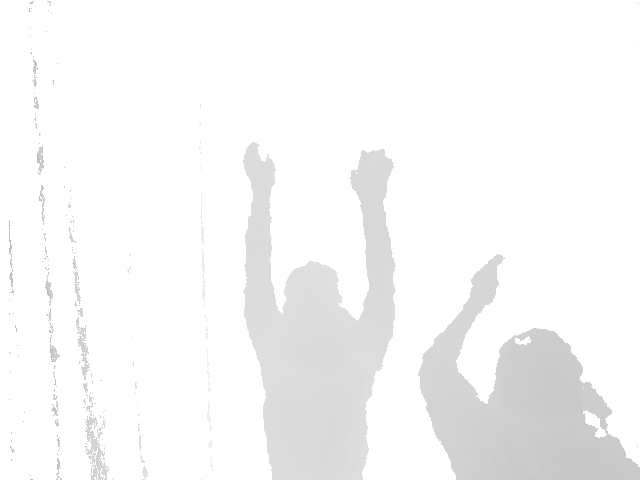hand: (464, 251, 509, 314), (348, 146, 393, 204), (241, 141, 278, 196)
head: (486, 330, 592, 430), (284, 262, 344, 318)
person: (231, 139, 400, 480), (416, 248, 640, 480)
